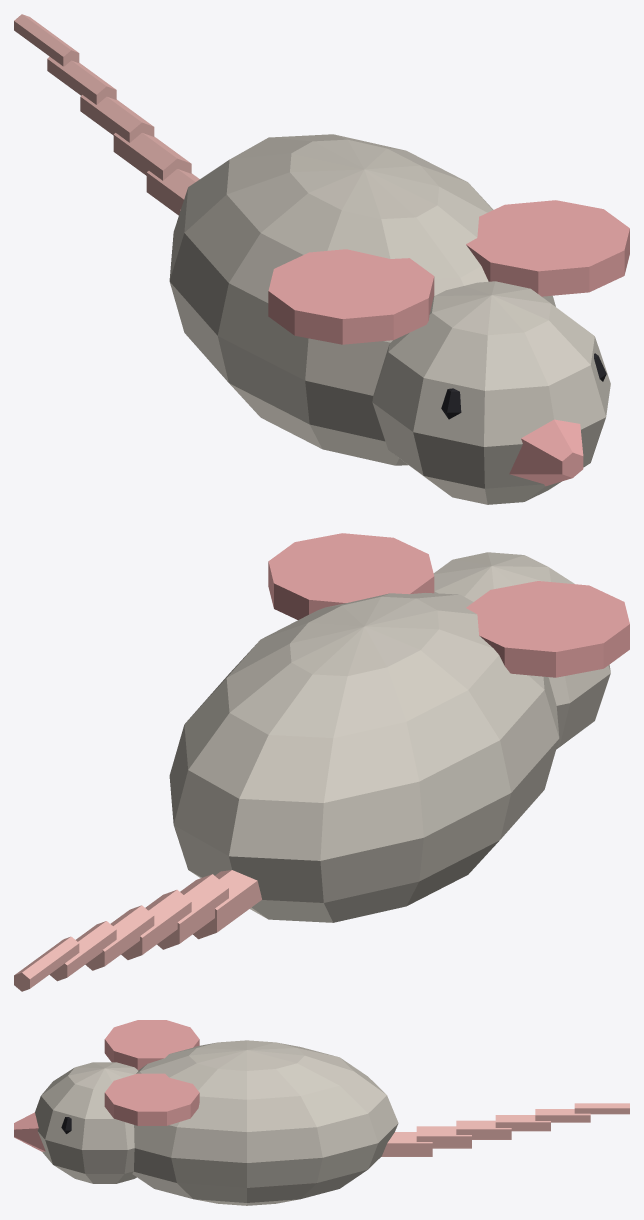
Rendered from mouse.glb.
The picture shows the model from 3 angles, top to bottom: view 1: azimuth 30°, elevation 25°; view 2: azimuth 150°, elevation 25°; view 3: azimuth 270°, elevation 25°; orthographic projection. The views are drawn at different scales.
Parts seen in each view (by area): view 1: mouse; view 2: mouse; view 3: mouse.
Part boxes in pixels (<box>): mouse: <box>14,14,629,504</box>; mouse: <box>14,533,629,991</box>; mouse: <box>14,1020,629,1205</box>.
Bounding box in the file's own units: 0.0548 × 0.0408 × 0.156.
